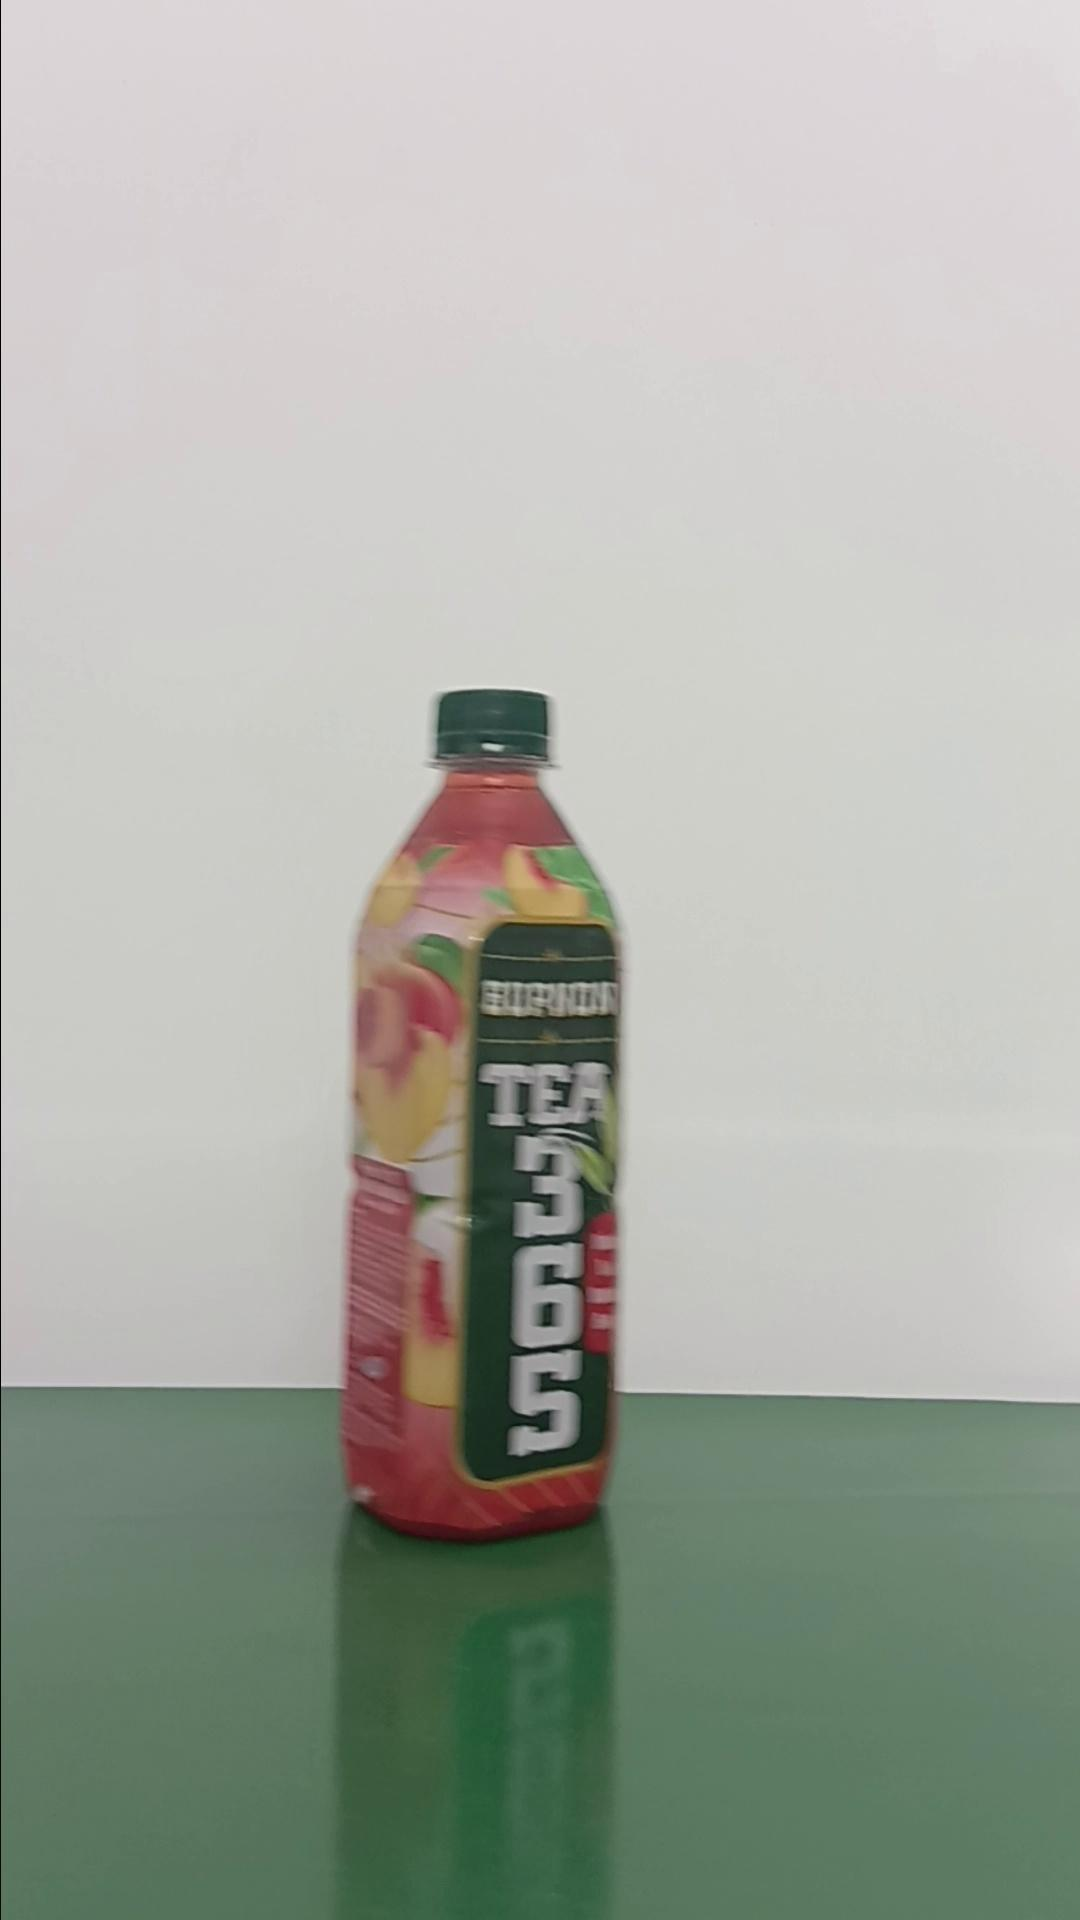khong loi: (336, 684, 626, 1542)
